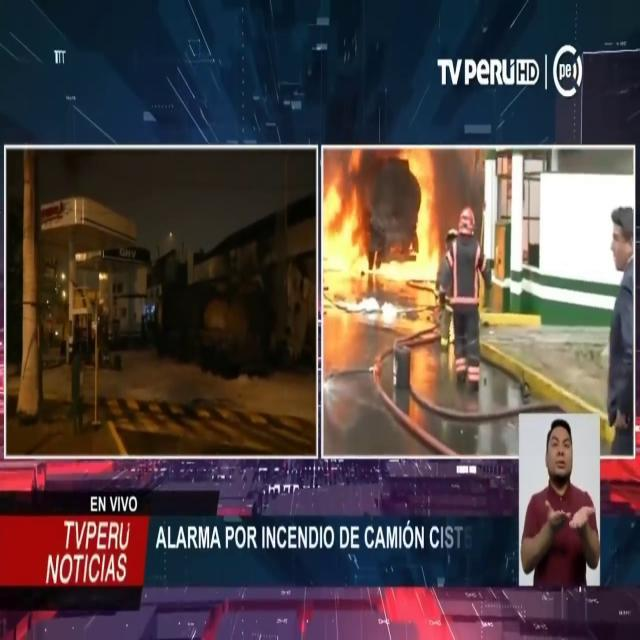Fire: (321, 147, 447, 326)
